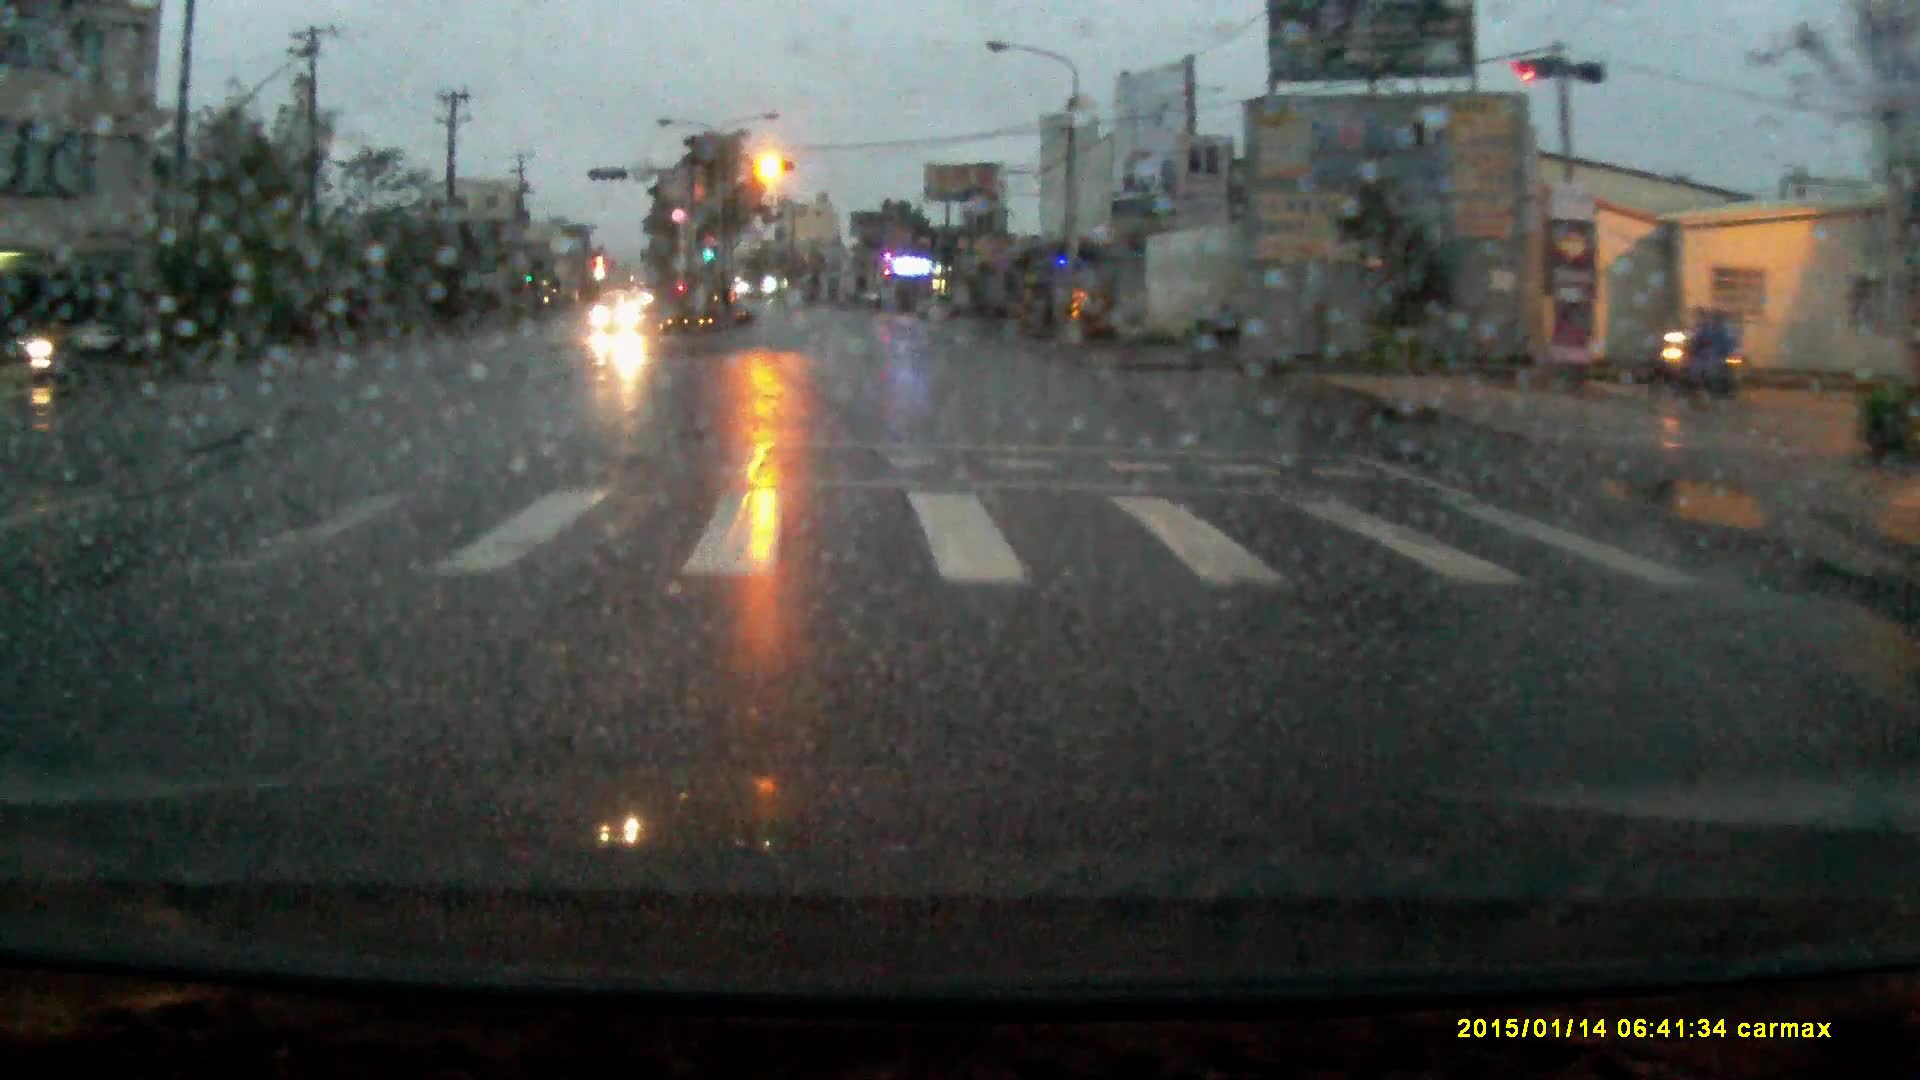rider: (1659, 294, 1739, 398), (26, 300, 73, 383)
vehicle: (593, 291, 651, 333)
